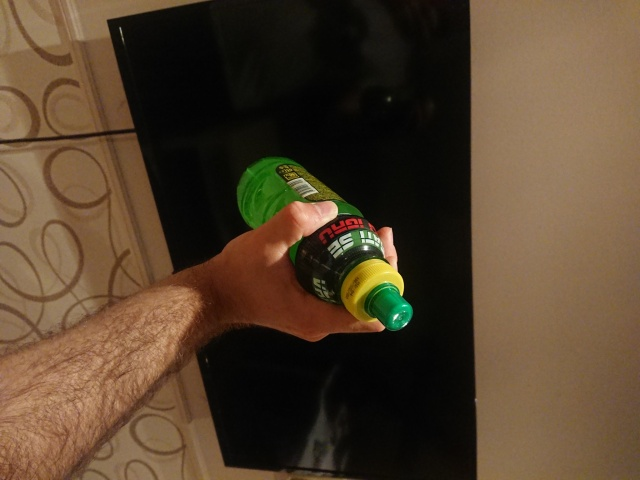Vindi Iso Sport Lemon-Grapefruit 500mL: (233, 153, 416, 333)
